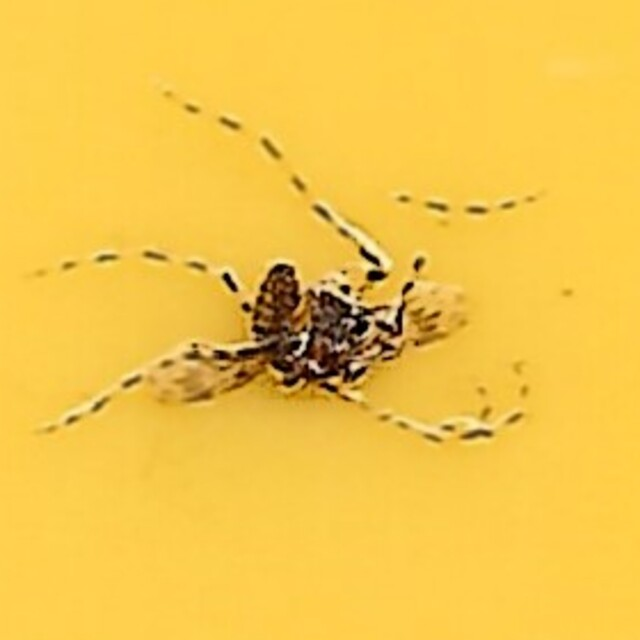Nematocera: (229, 234, 411, 406)
